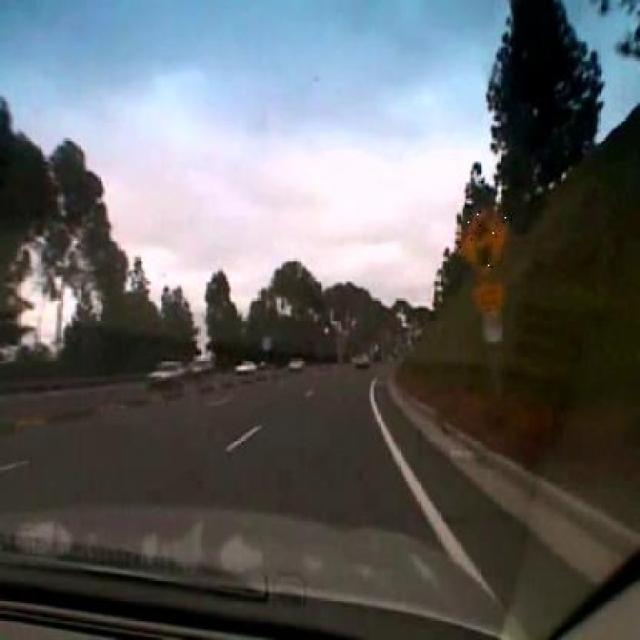signalAhead: (457, 203, 507, 275)
